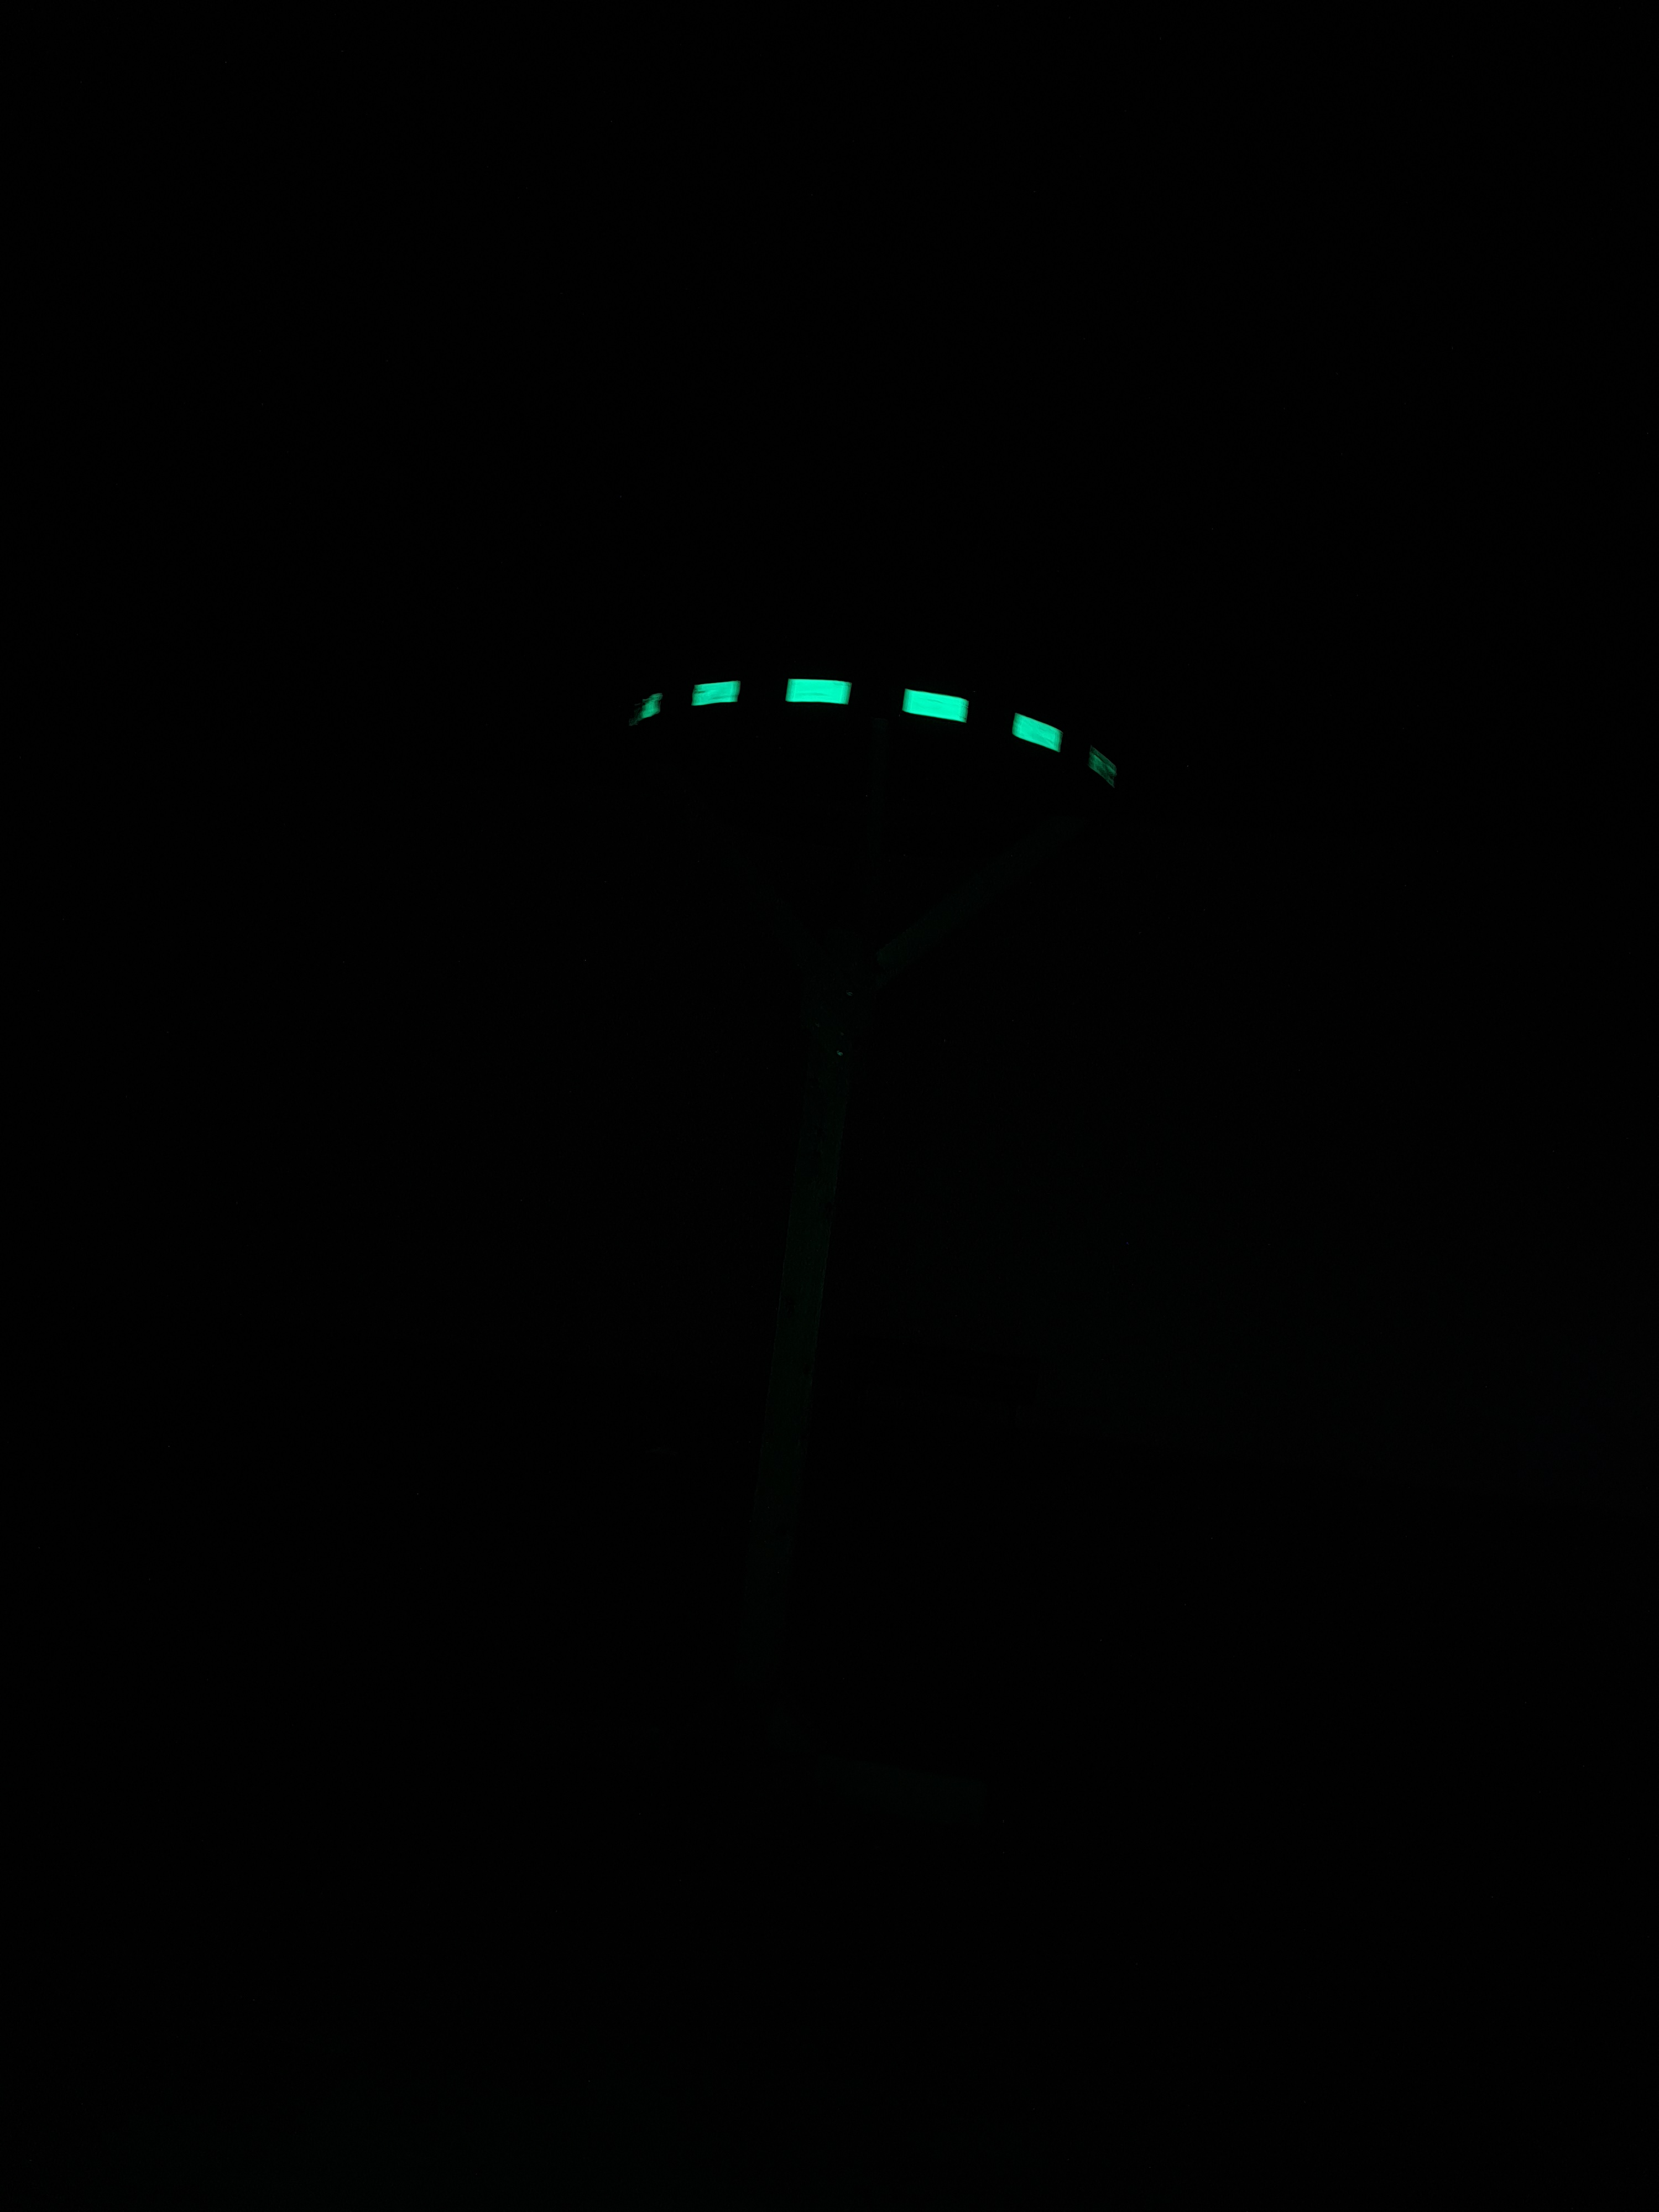hoop: (626, 658, 1124, 799)
